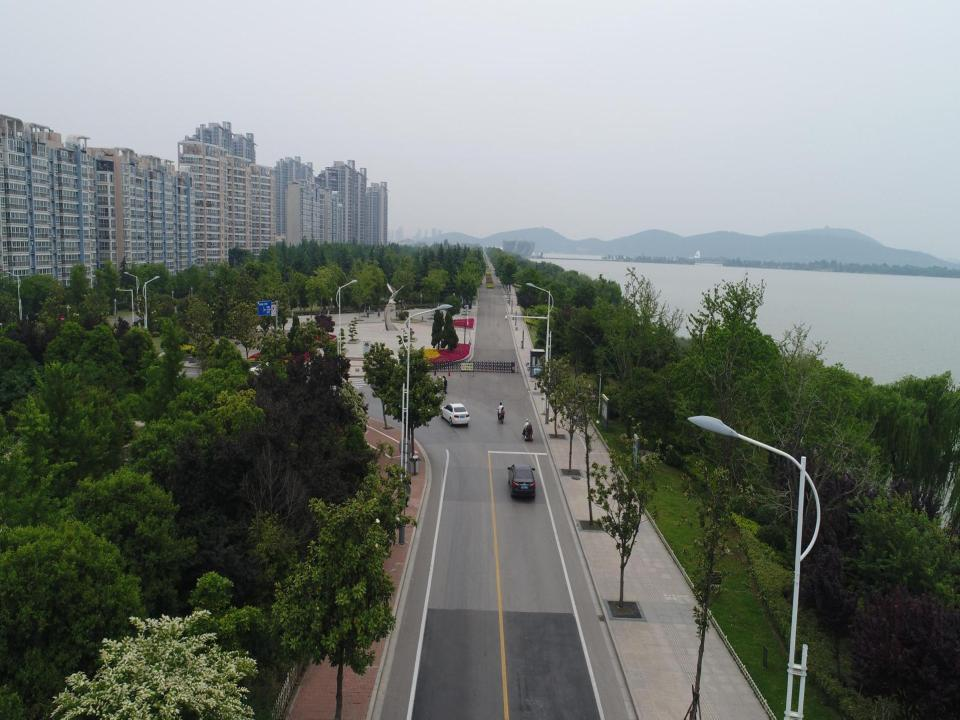car: (507, 464, 536, 500), (440, 403, 469, 426)
